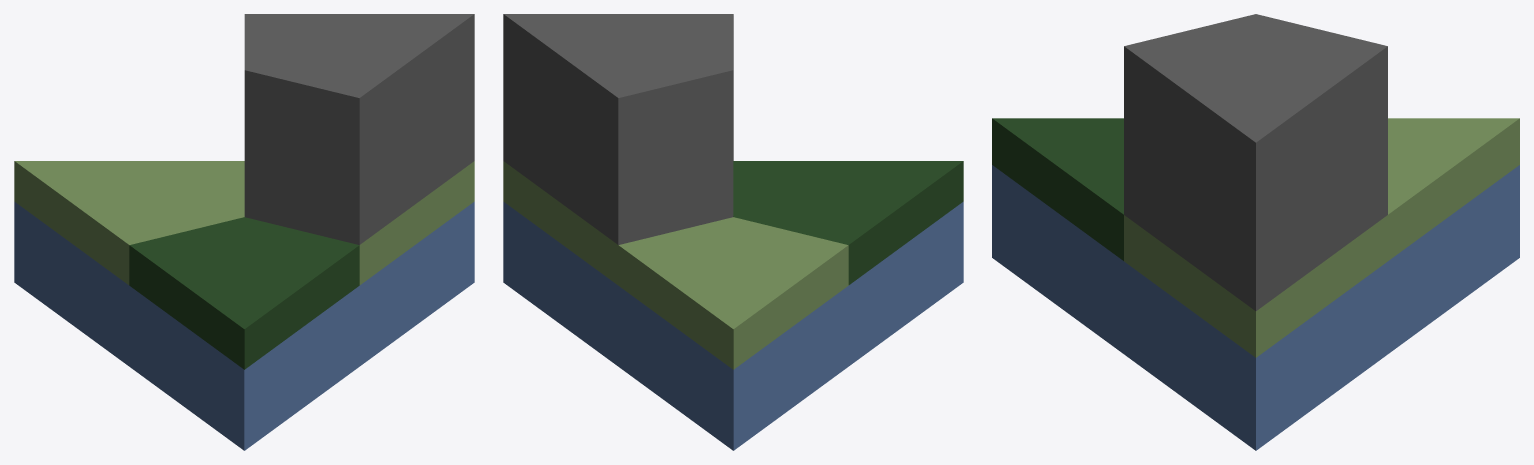
Rendered from tri_20.glb.
3 renders of one model, left to right at view 1: azimuth 30°, elevation 25°; view 2: azimuth 150°, elevation 25°; view 3: azimuth 270°, elevation 25°, orthographic. The views are drawn at different scales.
Visible parts, largest first — view 1: tri_20; view 2: tri_20; view 3: tri_20.
Part boxes in pixels (box(x1,y1,x2,y2)): tri_20: box(14, 14, 474, 450); tri_20: box(503, 14, 963, 450); tri_20: box(992, 14, 1519, 450).
Size of the model in its own units: 0.7423 by 0.5521 by 0.8571.
